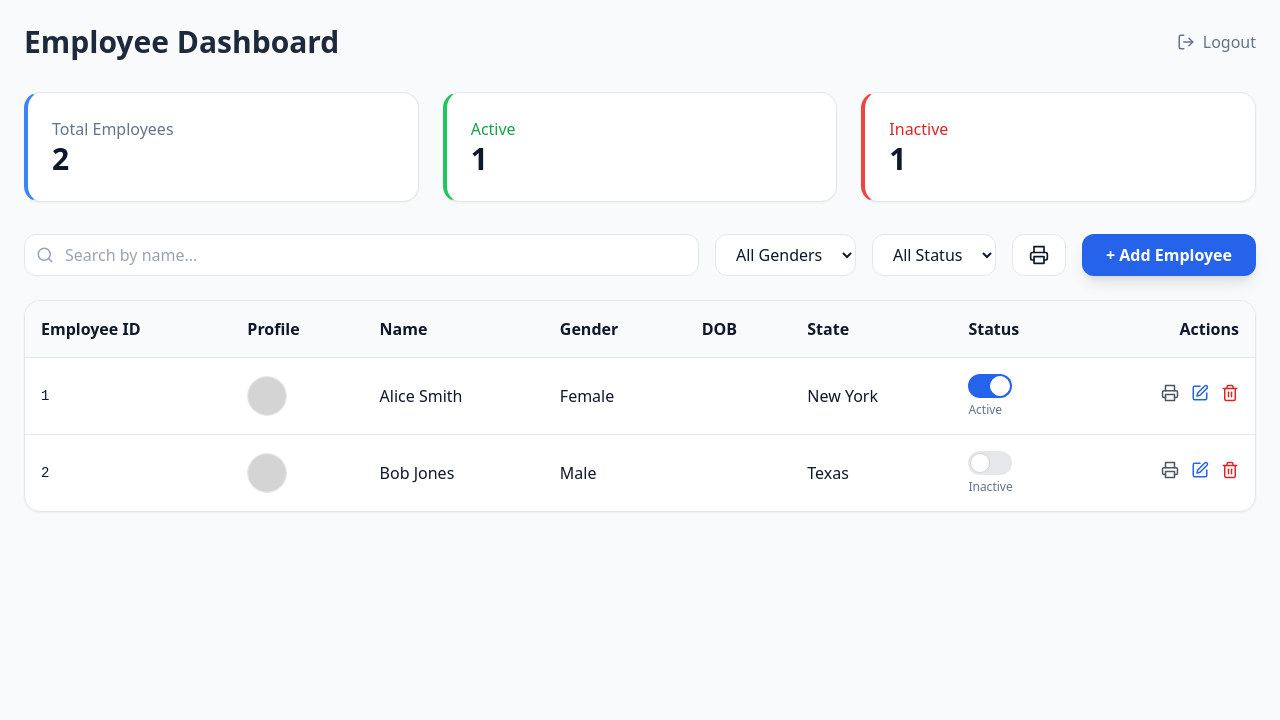
Scenario: Dashboard Component › filters results based on search input
Type "Alice" into the field with placeholder "Search by name..." at (361, 255), box [24, 234, 699, 276]
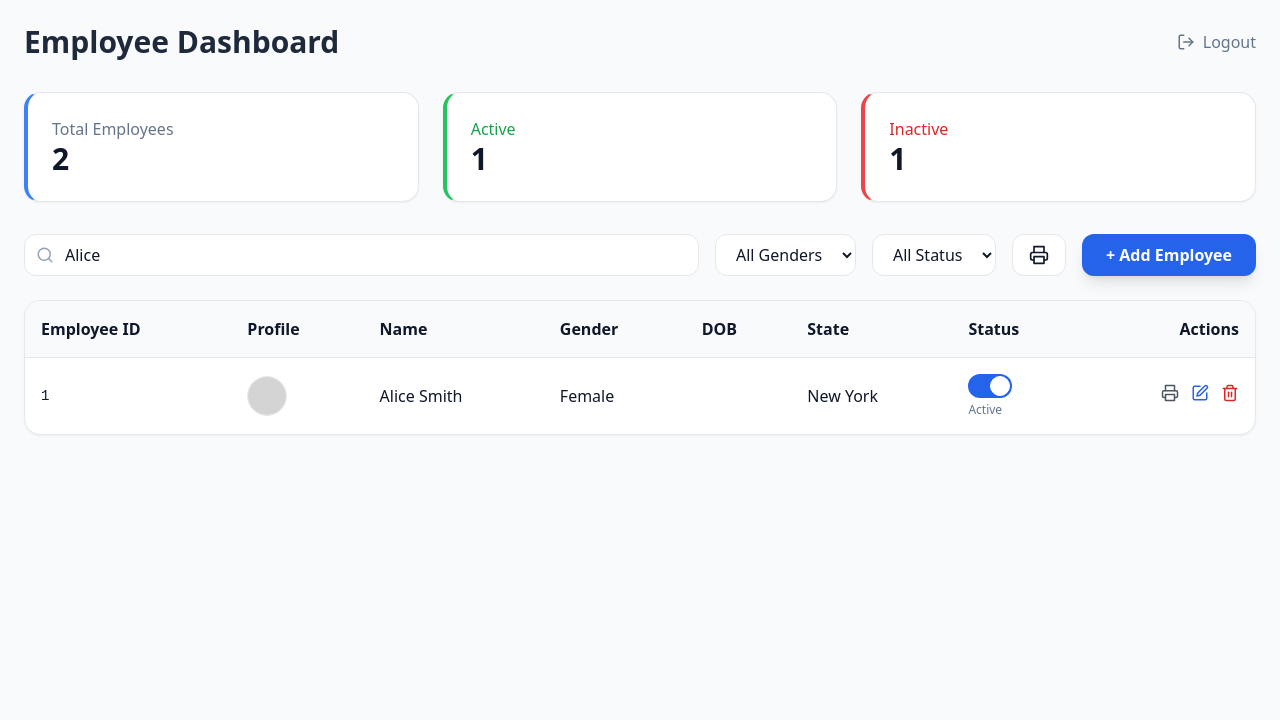
Expected: the text "Alice Smith" is shown, [364, 358, 544, 434]
Result: the text "Bob Jones" is gone
